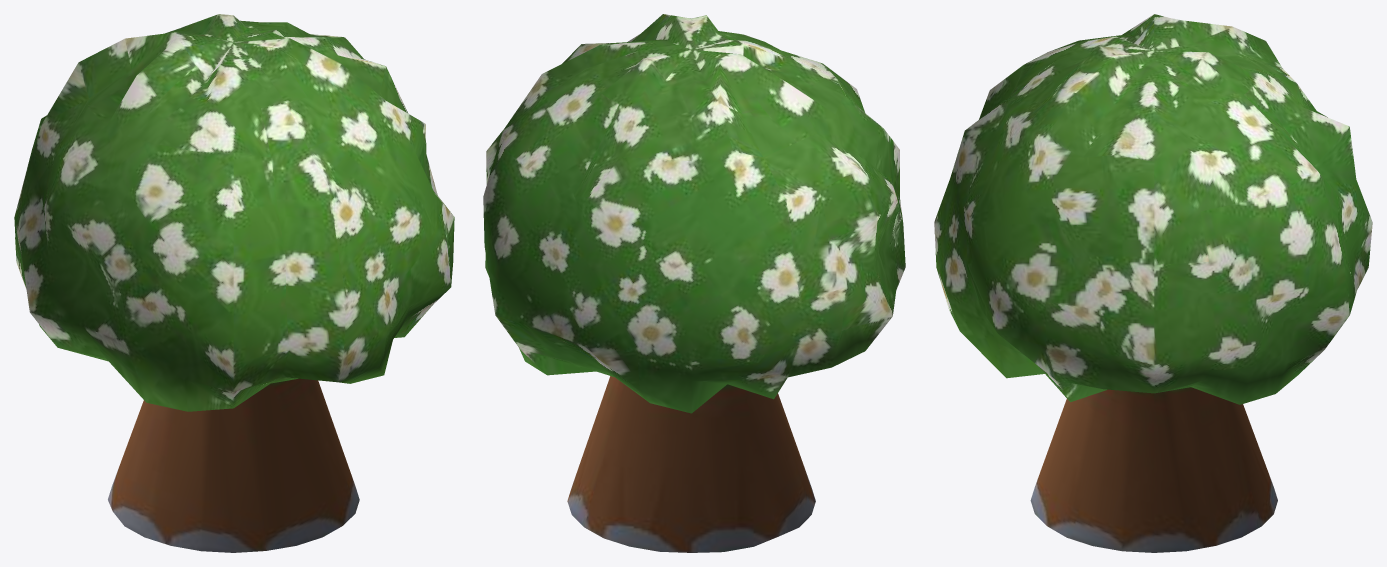
Rendered from bush_flower_2.glb.
The picture shows the model from 3 angles, left to right: view 1: azimuth 30°, elevation 25°; view 2: azimuth 150°, elevation 25°; view 3: azimuth 270°, elevation 25°; orthographic projection.
Visible parts, largest first — view 1: ЦІЛЬ; view 2: ЦІЛЬ; view 3: ЦІЛЬ.
Part boxes in pixels (x1,y1,x2,y2): ЦІЛЬ: (14, 14, 454, 552); ЦІЛЬ: (483, 14, 905, 552); ЦІЛЬ: (934, 14, 1372, 552).
Size of the model in its own units: 0.2856 by 0.315 by 0.2716.
1 material, 1 textured.
